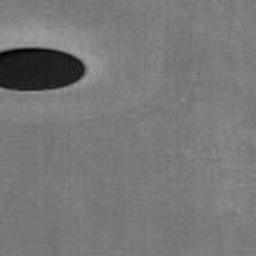Punching: (0, 47, 86, 92)
